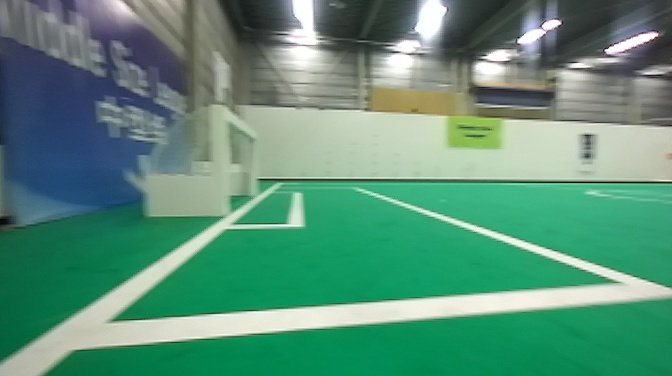goalpost: (198, 87, 240, 222), (240, 123, 261, 199)
